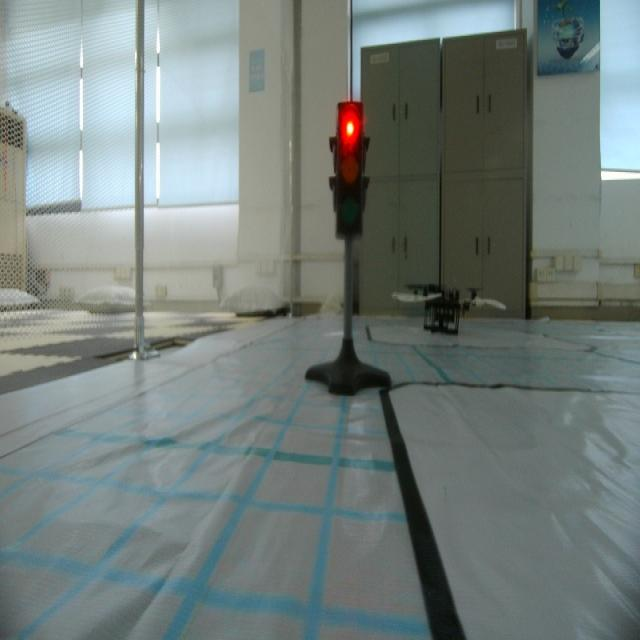red: (325, 92, 371, 244)
